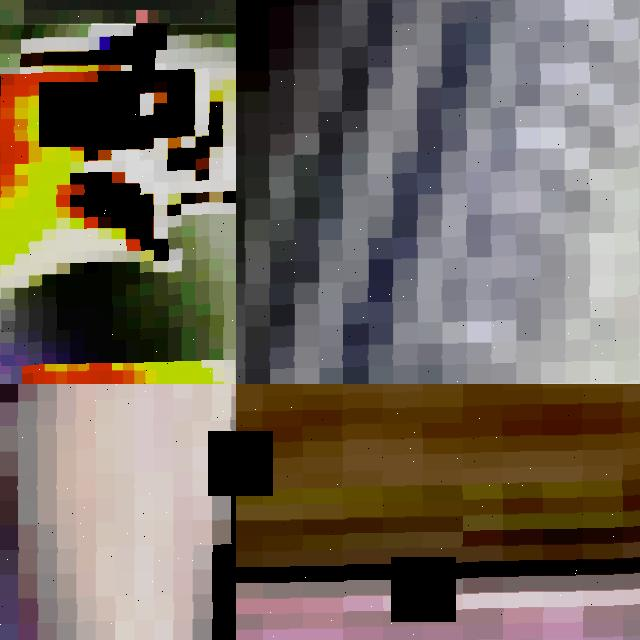arms: (236, 0, 640, 384), (236, 384, 640, 640), (0, 25, 236, 384), (0, 384, 236, 640)
